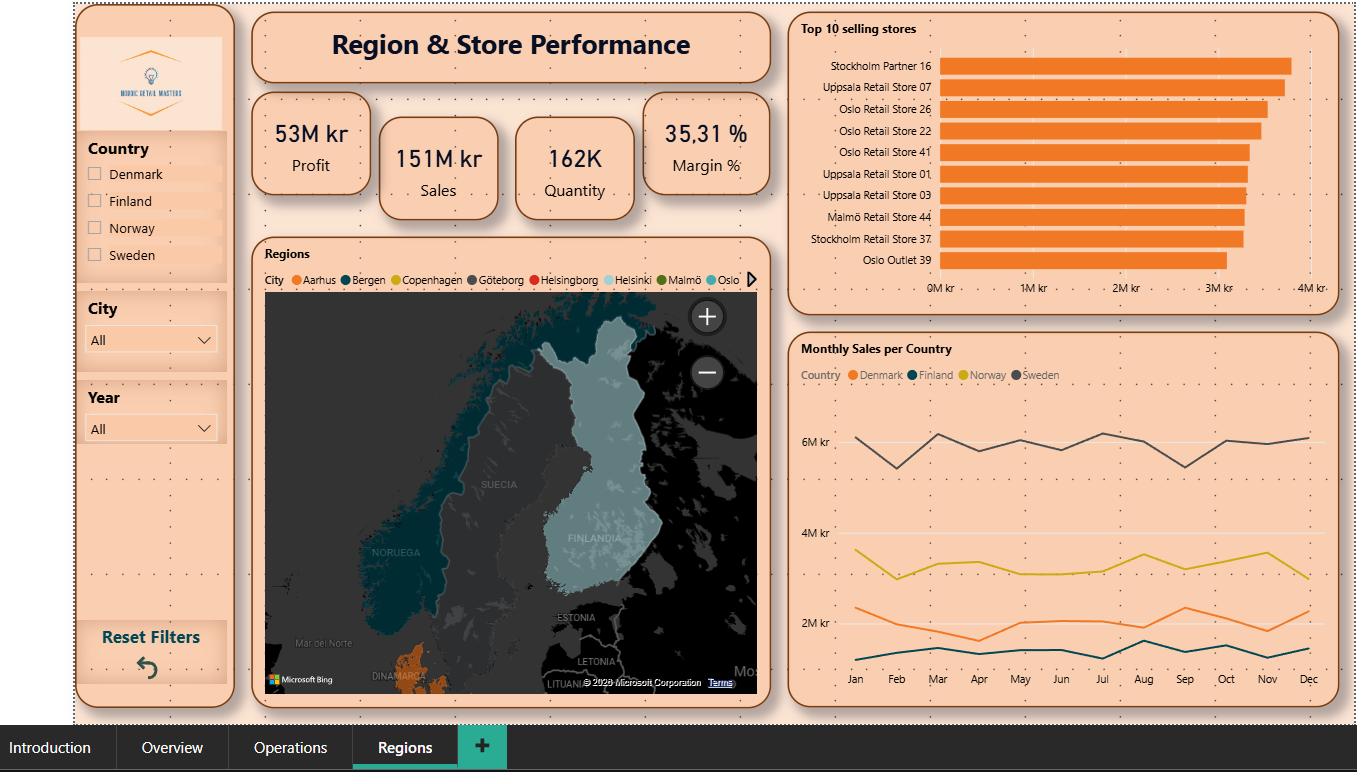

The page's visual inventory and layout, read from the dashboard file:
{"tool":"powerbi","page":{"name":"Regions","canvas":[1280,720],"ordinal":3},"visuals":[{"type":"image","box":[0,8,152,144],"z":0},{"type":"actionButton","title":"pil knapp","box":[56,648,32,32],"z":1000},{"type":"textbox","title":"Title Overview","box":[176,8,520,72],"z":2000},{"type":"shape","title":"Main side-bar","box":[0,0,160,704],"z":3000},{"type":"slicer","title":"Slicer-Brand","fields":{"Values":["Date.Year"]},"box":[0,376,152,64],"z":4000},{"type":"slicer","title":"Slicer-Year","fields":{"Values":["DimStores.Country"]},"box":[0,128,152,152],"z":5000},{"type":"clusteredBarChart","title":"Top 10 selling stores","fields":{"Category":["DimStores.StoreName"],"Y":["_Measuresss.Sales"]},"box":[712,8,552,304],"z":6000},{"type":"actionButton","title":"Reset Button","box":[0,616,152,64],"z":7000},{"type":"slicer","title":"Slicer-Year","fields":{"Values":["DimStores.City"]},"box":[0,288,152,80],"z":8000},{"type":"card","title":"sales","fields":{"Values":["_Measures (2).Sales"]},"box":[304,112,120,104],"z":9000},{"type":"card","title":"profits","fields":{"Values":["_Measures (2).Profit"]},"box":[176,88,120,104],"z":10000},{"type":"card","title":"kpi profit margin","fields":{"Values":["_Measures (2).Margin %"]},"box":[568,88,128,104],"z":11000},{"type":"card","title":"Order amount","fields":{"Values":["_Measuresss.Quantity"]},"box":[440,112,120,104],"z":12000},{"type":"lineChart","title":"Monthly Sales per Country","fields":{"Y":["_Measuresss.Sales"],"Category":["Date.Month"],"Series":["DimStores.Country"]},"box":[712,328,552,376],"z":13000},{"type":"filledMap","title":"Regions","fields":{"Category":["DimStores.Country"],"Series":["DimStores.City"]},"box":[176,232,520,472],"z":14000}]}

Visuals, with their boxes on the page's 1280x720 design canvas (x1, y1, x2, y2). These are canvas units, not pixel positions in the 1357x772 screenshot, which may show the page scaled, cropped or inside an application window:
image: locate(0, 8, 152, 152)
"pil knapp" actionButton: locate(56, 648, 88, 680)
"Title Overview" textbox: locate(176, 8, 696, 80)
"Main side-bar" shape: locate(0, 0, 160, 704)
"Slicer-Brand" slicer: locate(0, 376, 152, 440)
"Slicer-Year" slicer: locate(0, 128, 152, 280)
"Top 10 selling stores" clusteredBarChart: locate(712, 8, 1264, 312)
"Reset Button" actionButton: locate(0, 616, 152, 680)
"Slicer-Year" slicer: locate(0, 288, 152, 368)
"sales" card: locate(304, 112, 424, 216)
"profits" card: locate(176, 88, 296, 192)
"kpi profit margin" card: locate(568, 88, 696, 192)
"Order amount" card: locate(440, 112, 560, 216)
"Monthly Sales per Country" lineChart: locate(712, 328, 1264, 704)
"Regions" filledMap: locate(176, 232, 696, 704)
